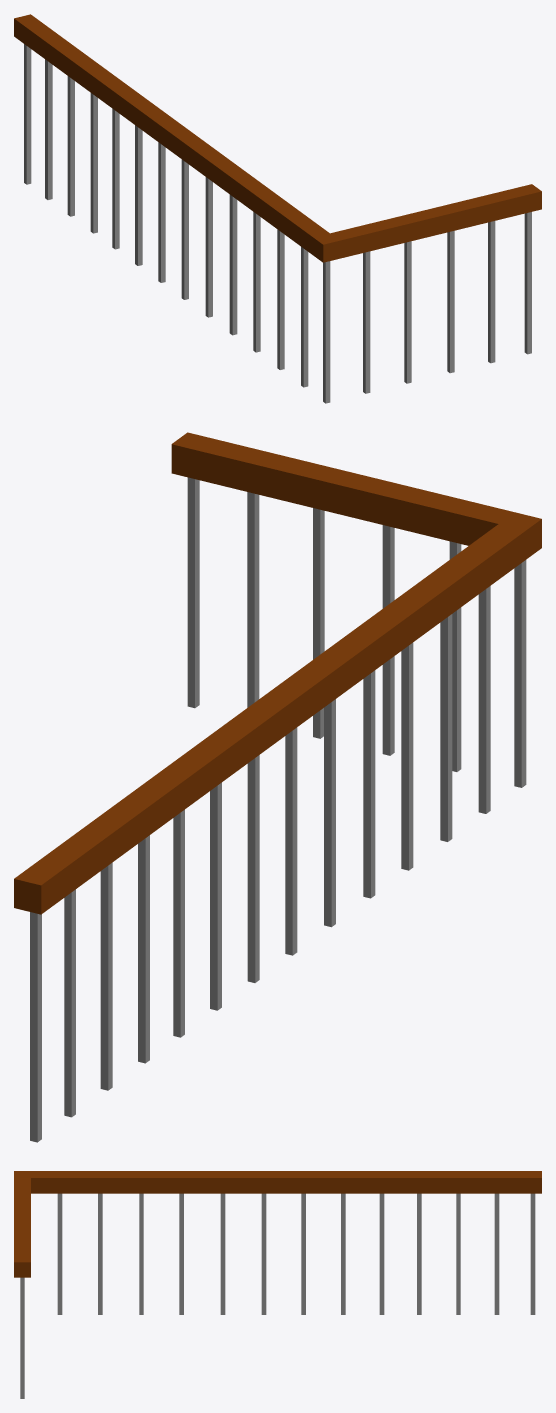
Rendered from Parapet.obj.
The picture shows the model from 3 angles, top to bottom: view 1: azimuth 30°, elevation 25°; view 2: azimuth 150°, elevation 25°; view 3: azimuth 270°, elevation 25°; orthographic projection. The views are drawn at different scales.
Parts seen in each view (by area): view 1: DivisaoEscadas; view 2: DivisaoEscadas; view 3: DivisaoEscadas.
Boxes of the visible parts, left/top/right/bottom form: DivisaoEscadas: left=14, top=14, right=541, bottom=403; DivisaoEscadas: left=14, top=432, right=541, bottom=1142; DivisaoEscadas: left=14, top=1171, right=541, bottom=1398.
Bounding box in the file's own units: 228 × 162 × 558.
